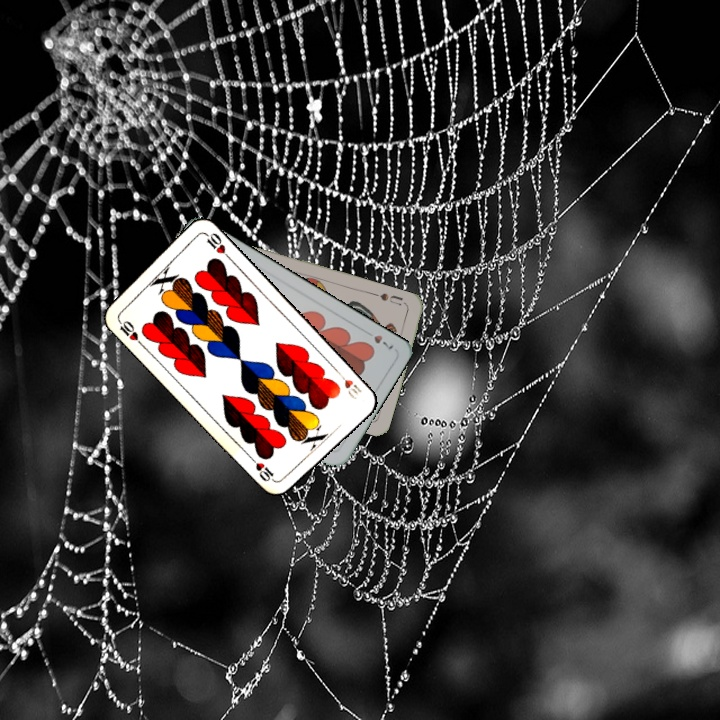H10: (333, 367, 365, 402), (114, 315, 145, 348)
H7: (360, 326, 396, 352)
SU: (370, 289, 405, 308)
